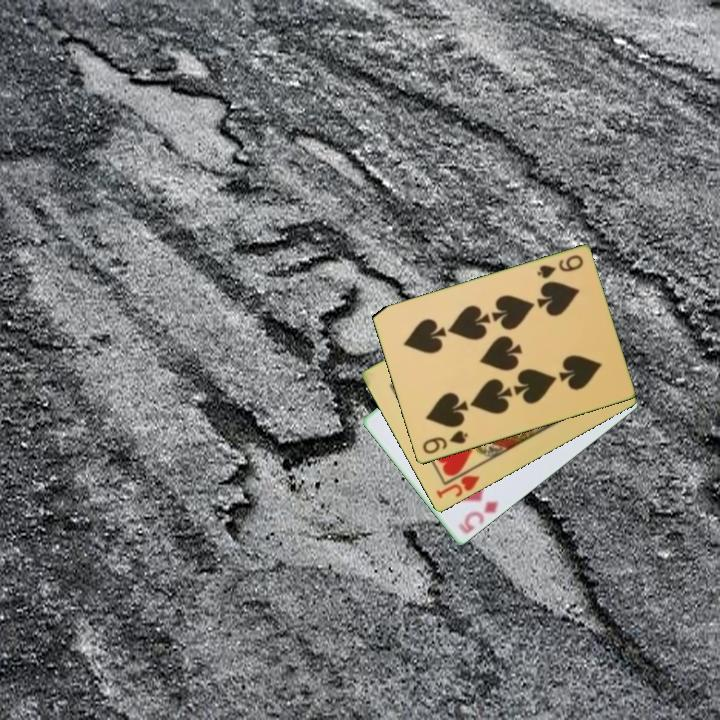5d: (454, 498, 501, 537)
9s: (533, 252, 586, 282), (419, 427, 471, 457)
Jh: (432, 472, 483, 502)
